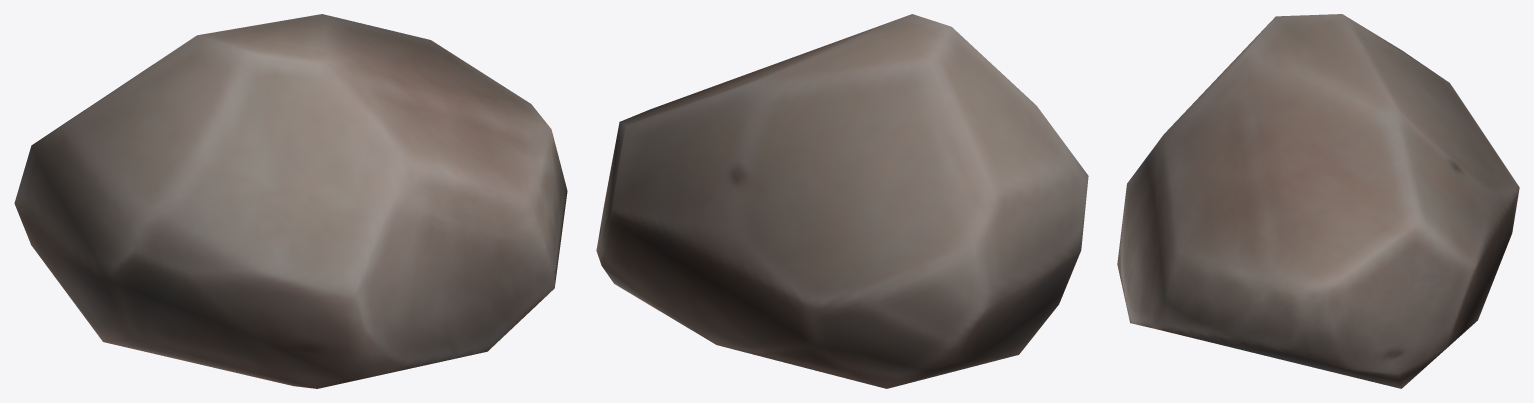
File: SM_Gem_Iron_Piece.fbx
3 views of the same model, side by side, from view 1: azimuth 30°, elevation 25°; view 2: azimuth 150°, elevation 25°; view 3: azimuth 270°, elevation 25° (orthographic). The views are drawn at different scales.
Parts seen in each view (by area): view 1: SM_Gem_Iron_Piece; view 2: SM_Gem_Iron_Piece; view 3: SM_Gem_Iron_Piece.
Boxes of the visible parts, x1=… form: SM_Gem_Iron_Piece: x1=14, y1=14, x2=567, y2=388; SM_Gem_Iron_Piece: x1=596, y1=14, x2=1088, y2=388; SM_Gem_Iron_Piece: x1=1117, y1=14, x2=1519, y2=388.
Size of the model in its own units: 21.37 by 12.78 by 18.14.
